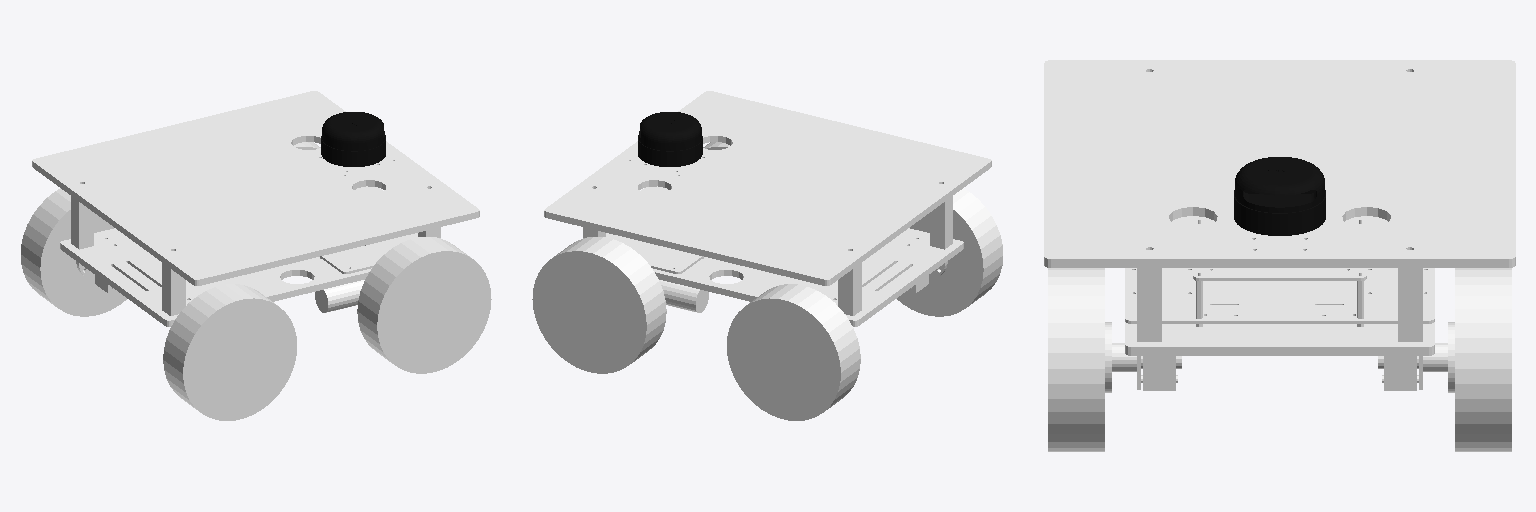
robot.urdf — pibot_description:
<robot
  name="pibot_description">
  <link
    name="base_link">
    <inertial>
      <origin
        xyz="0.0027565 4.4925E-07 -0.009736"
        rpy="0 0 0" />
      <mass
        value="6.031" />
      <inertia
        ixx="0.13189"
        ixy="-2.3229E-07"
        ixz="-0.00034689"
        iyy="0.11074"
        iyz="2.3612E-09"
        izz="0.20986" />
    </inertial>
    <visual>
      <origin
        xyz="0 0 0"
        rpy="0 0 0" />
      <geometry>
        <mesh
          filename="package://pibot_description/meshes/hadesX/base_link.stl" />
      </geometry>
      <material
        name="">
        <color
          rgba="1 1 1 1" />
      </material>
    </visual>
    <collision>
      <origin
        xyz="0 0 0"
        rpy="0 0 0" />
      <geometry>
        <mesh
          filename="package://pibot_description/meshes/hadesX/base_link.stl" />
      </geometry>
    </collision>
  </link>
  <link
    name="laser_link">
    <inertial>
      <origin
        xyz="-0.0017532 9.7056E-08 0.018369"
        rpy="0 0 0" />
      <mass
        value="0.17932" />
      <inertia
        ixx="8.4489E-05"
        ixy="7.2842E-12"
        ixz="3.6373E-06"
        iyy="7.9944E-05"
        iyz="-3.7959E-10"
        izz="0.00011884" />
    </inertial>
    <visual>
      <origin
        xyz="0 0 0"
        rpy="0 0 0" />
      <geometry>
        <mesh
          filename="package://pibot_description/meshes/hadesX/laser_link.stl" />
      </geometry>
      <material
        name="">
        <color
          rgba="0.10196 0.10196 0.10196 1" />
      </material>
    </visual>
    <collision>
      <origin
        xyz="0 0 0"
        rpy="0 0 0" />
      <geometry>
        <mesh
          filename="package://pibot_description/meshes/hadesX/laser_link.stl" />
      </geometry>
    </collision>
  </link>
  <joint
    name="laser_link_joint"
    type="fixed">
    <origin
      xyz="0.13 0 0.088"
      rpy="0 -6.123E-17 0" />
    <parent
      link="base_link" />
    <child
      link="laser_link" />
    <axis
      xyz="0 0 0" />
  </joint>
</robot>

--- Facts derived from the render (not from the file) ---
3 views of the same robot in one strip: view 1: azimuth 30°, elevation 25°; view 2: azimuth 150°, elevation 25°; view 3: azimuth 270°, elevation 25° (orthographic).
Robot: pibot_description — 2 links, 1 joints (1 fixed); root link base_link; default pose: all joints at 0.
Links seen in each view (by area): view 1: base_link, laser_link; view 2: base_link, laser_link; view 3: base_link, laser_link.
Boxes of the visible links, bbox=[...] form: base_link: bbox=[21, 91, 491, 420]; laser_link: bbox=[321, 112, 385, 166]; base_link: bbox=[532, 91, 1002, 420]; laser_link: bbox=[638, 112, 702, 166]; base_link: bbox=[1044, 60, 1515, 451]; laser_link: bbox=[1234, 157, 1325, 235].
Bounding box of the posed robot: 0.41 × 0.38 × 0.2418 m (x, y, z).
2 mesh visuals loaded from 2 distinct referenced files (2 binary STL).